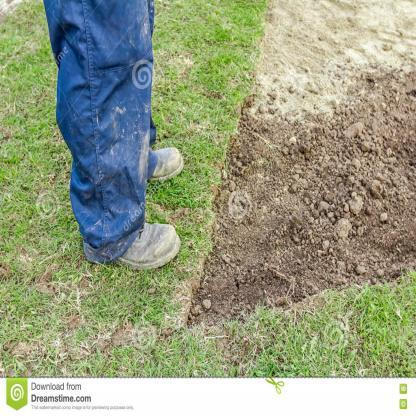bota: (113, 219, 185, 274), (148, 143, 188, 183)
